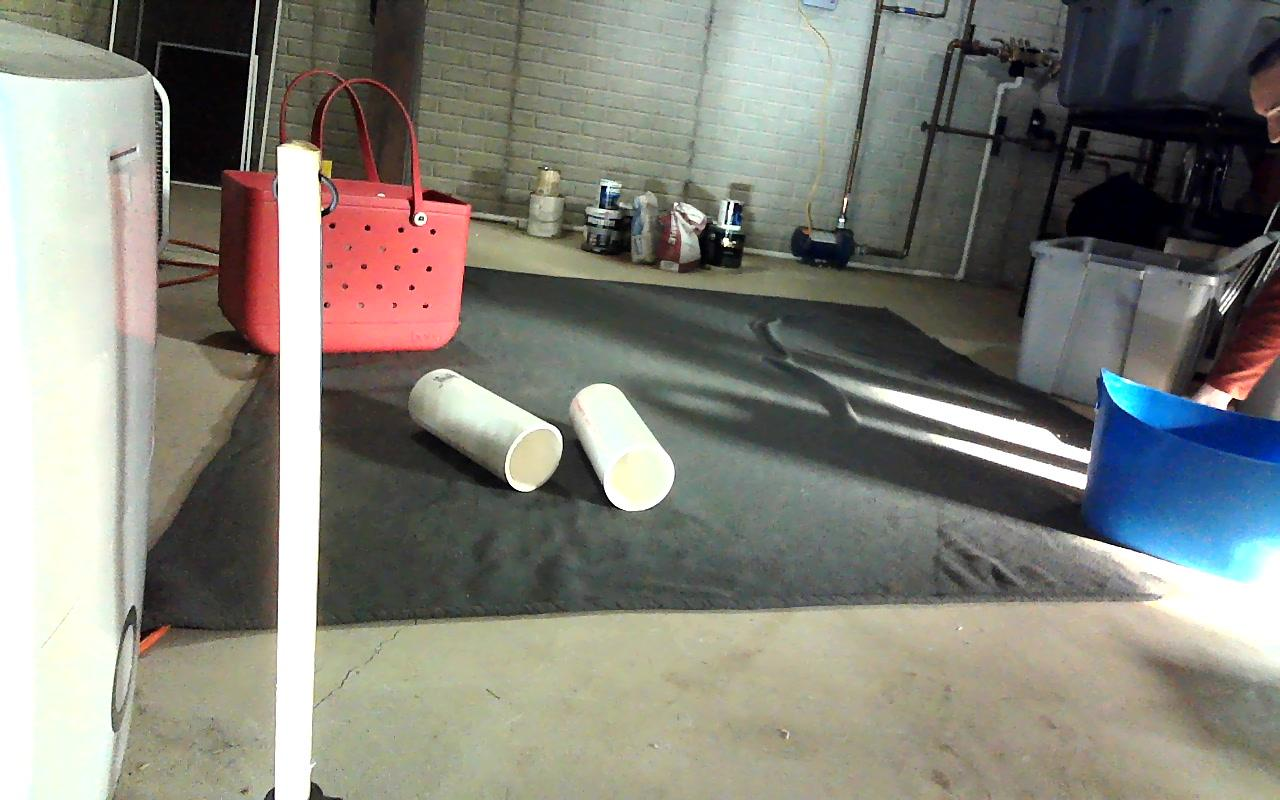coral: (408, 369, 565, 490), (570, 382, 674, 509)
